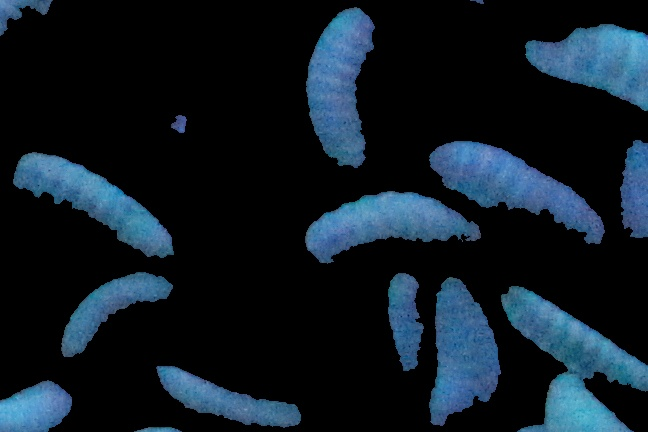larvae: (429, 136, 605, 244), (14, 146, 172, 261), (501, 286, 648, 389), (517, 13, 648, 116), (306, 2, 380, 177), (308, 190, 485, 261), (430, 277, 505, 430), (150, 361, 306, 429), (62, 272, 180, 361), (387, 270, 429, 372)
